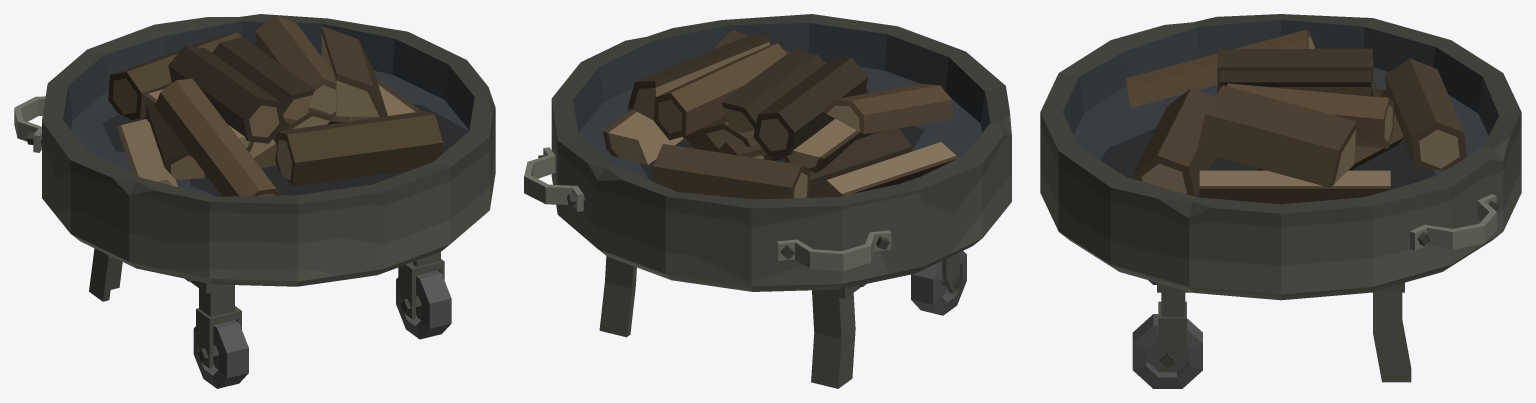
File: SM_Prop_FirePit_01.fbx
The picture shows the model from 3 angles, left to right: view 1: azimuth 30°, elevation 25°; view 2: azimuth 150°, elevation 25°; view 3: azimuth 270°, elevation 25°; orthographic projection. The views are drawn at different scales.
Parts seen in each view (by area): view 1: SM_Prop_FirePit_01; view 2: SM_Prop_FirePit_01; view 3: SM_Prop_FirePit_01.
Boxes of the visible parts, left/top/right/bottom form: SM_Prop_FirePit_01: left=14, top=14, right=495, bottom=388; SM_Prop_FirePit_01: left=524, top=14, right=1011, bottom=388; SM_Prop_FirePit_01: left=1040, top=14, right=1521, bottom=388.
Bounding box in the file's own units: 166 × 102 × 166.
